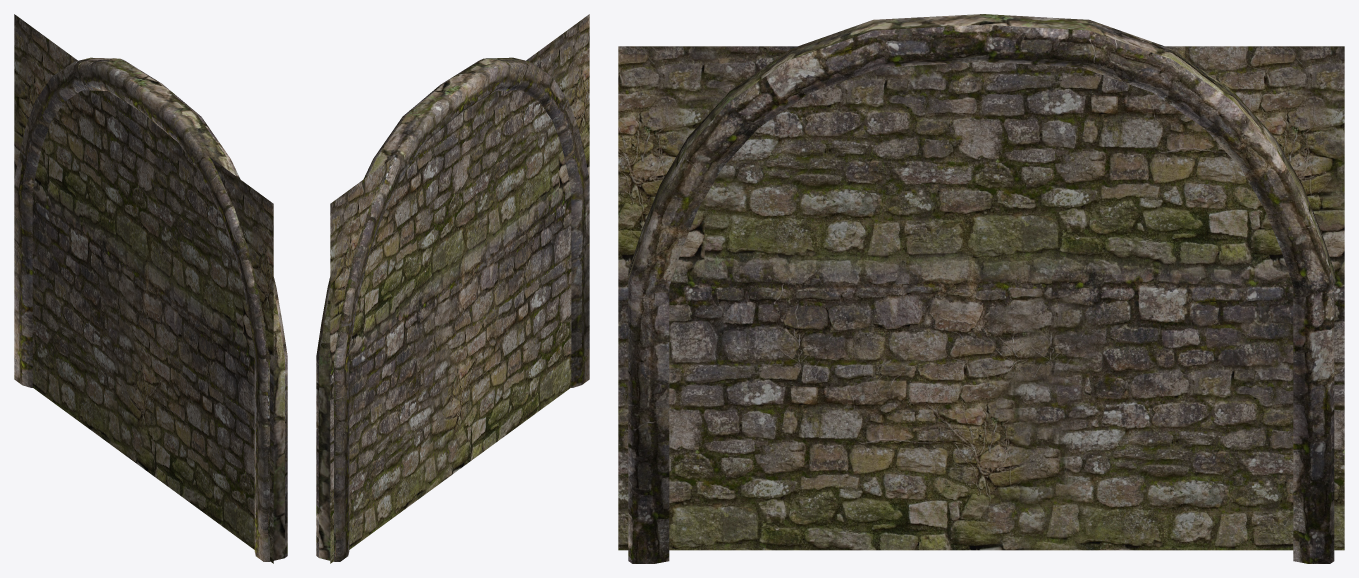
File: Tunnel_Dead_End.FBX
The picture shows the model from 3 angles, left to right: view 1: azimuth 30°, elevation 25°; view 2: azimuth 150°, elevation 25°; view 3: azimuth 270°, elevation 25°; orthographic projection. The views are drawn at different scales.
Parts seen in each view (by area): view 1: Tunnel_Dead_End; view 2: Tunnel_Dead_End; view 3: Tunnel_Dead_End.
Part boxes in pixels (x1,y1,x2,y2): Tunnel_Dead_End: (14, 14, 287, 563); Tunnel_Dead_End: (316, 14, 589, 563); Tunnel_Dead_End: (618, 14, 1344, 563).
Size of the model in its own units: 20 by 305 by 374.
